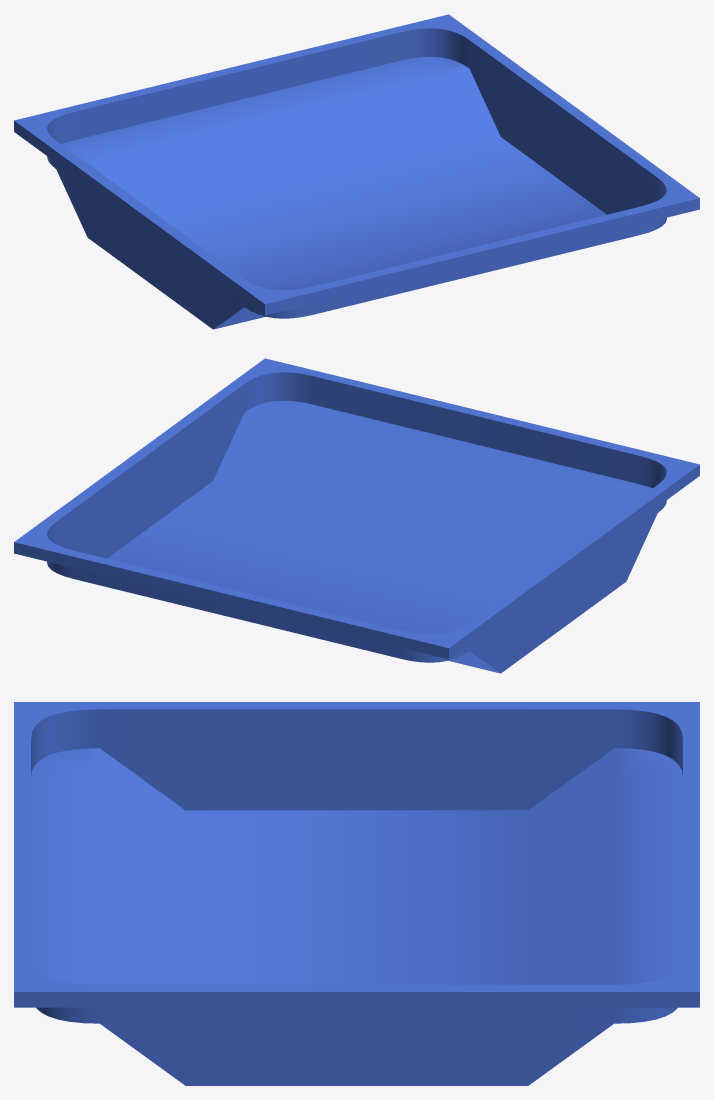
File: Ceiling_4x4m_C.FBX
The picture shows the model from 3 angles, top to bottom: view 1: azimuth 30°, elevation 25°; view 2: azimuth 150°, elevation 25°; view 3: azimuth 270°, elevation 25°; orthographic projection. The views are drawn at different scales.
Parts seen in each view (by area): view 1: Ceiling_4x4m_C; view 2: Ceiling_4x4m_C; view 3: Ceiling_4x4m_C.
Boxes of the visible parts, x1,y1,x2,y2 form: Ceiling_4x4m_C: [14, 14, 699, 329]; Ceiling_4x4m_C: [14, 358, 699, 673]; Ceiling_4x4m_C: [14, 702, 699, 1085].
Size of the model in its own units: 400 by 65 by 400.
